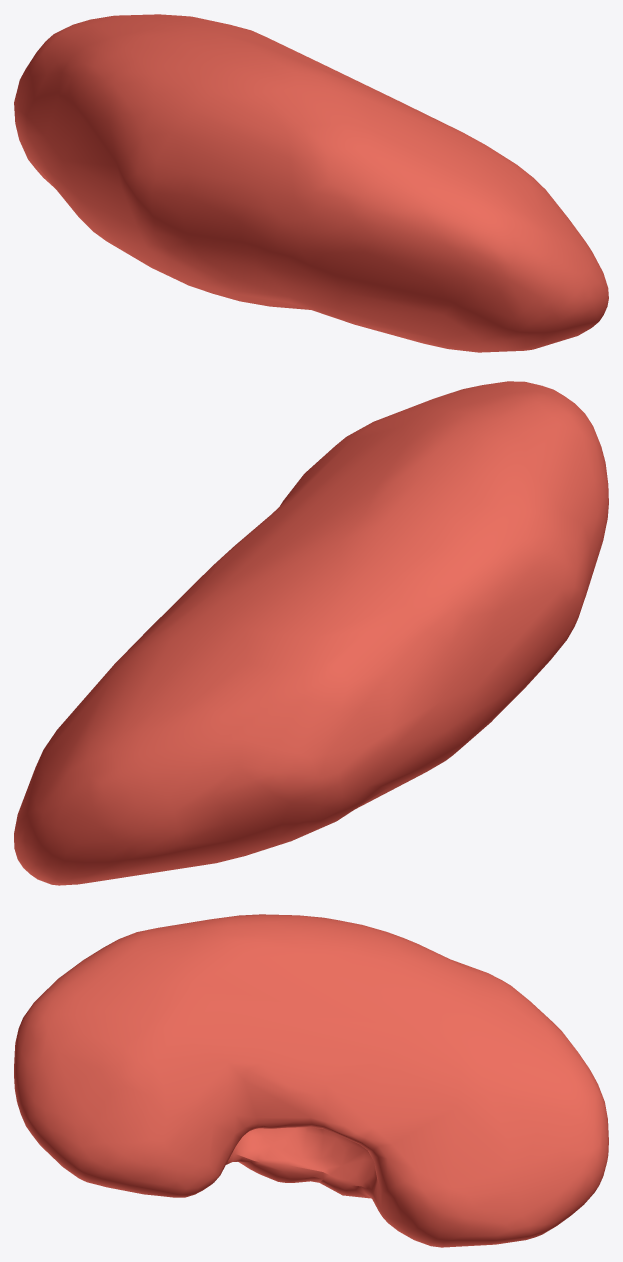
File: right_kidney.glb
3 renders of one model, top to bottom at view 1: azimuth 30°, elevation 25°; view 2: azimuth 150°, elevation 25°; view 3: azimuth 270°, elevation 25°, orthographic. The views are drawn at different scales.
Parts seen in each view (by area): view 1: grp1; view 2: grp1; view 3: grp1.
Boxes of the visible parts, <box> form: grp1: <box>14,14,608,352</box>; grp1: <box>14,381,608,885</box>; grp1: <box>14,914,608,1247</box>.
Bounding box in the file's own units: 57.15 × 47.15 × 104.
